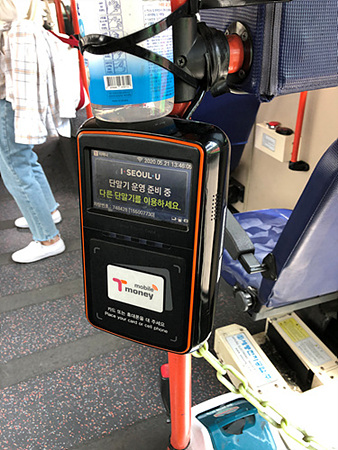terminal: (82, 120, 209, 353)
